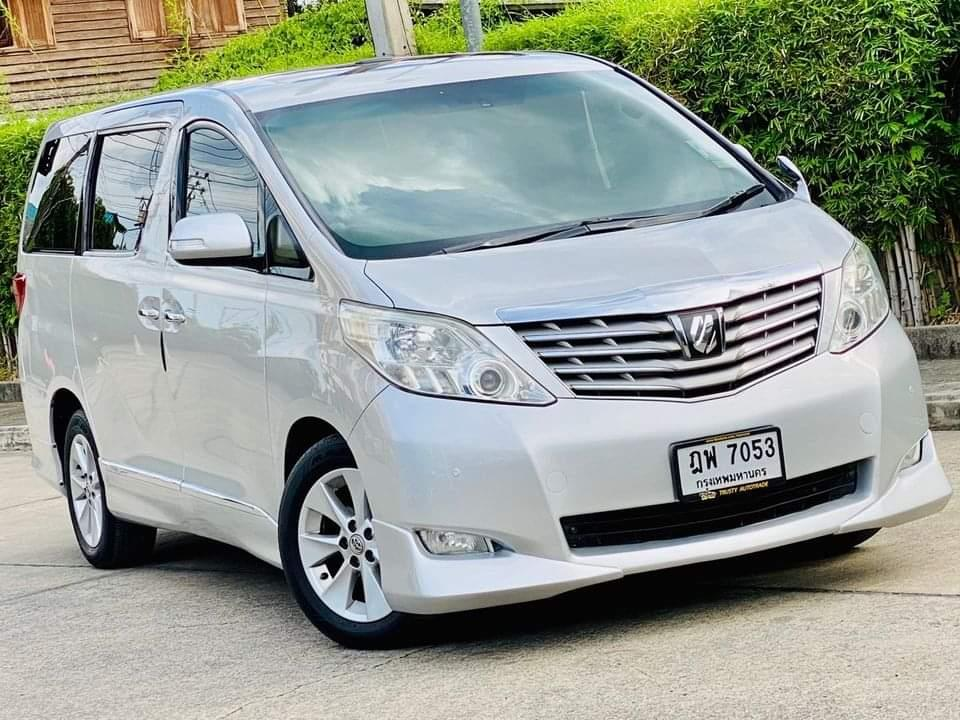license-plate: (666, 421, 789, 506)
